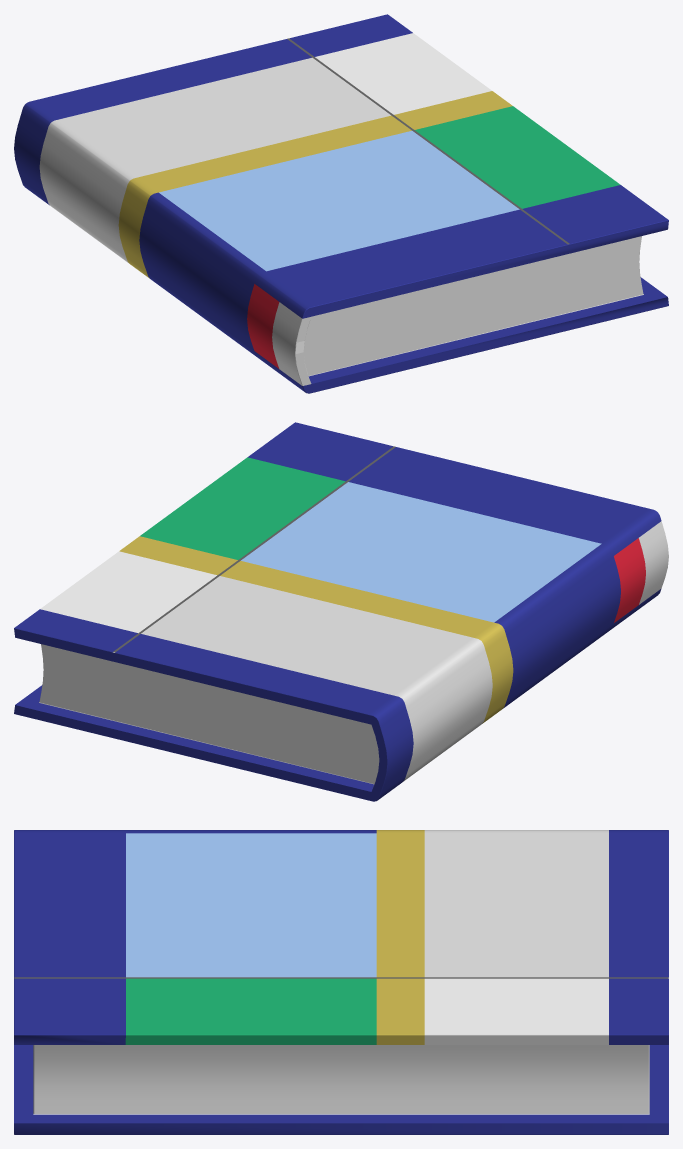
Rendered from Buch1.fbx.
3 views of the same model, one above another, from view 1: azimuth 30°, elevation 25°; view 2: azimuth 150°, elevation 25°; view 3: azimuth 270°, elevation 25° (orthographic). The views are drawn at different scales.
Visible parts, largest first — view 1: Buch1; view 2: Buch1; view 3: Buch1.
Boxes of the visible parts, <box> form: Buch1: <box>14,14,668,393</box>; Buch1: <box>14,422,668,801</box>; Buch1: <box>14,830,668,1134</box>.
Bounding box in the file's own units: 180 × 39.66 × 235.
